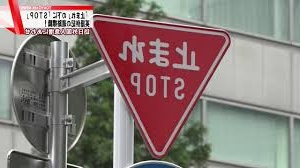Regulatory_sign_triangle: (78, 5, 237, 160)
